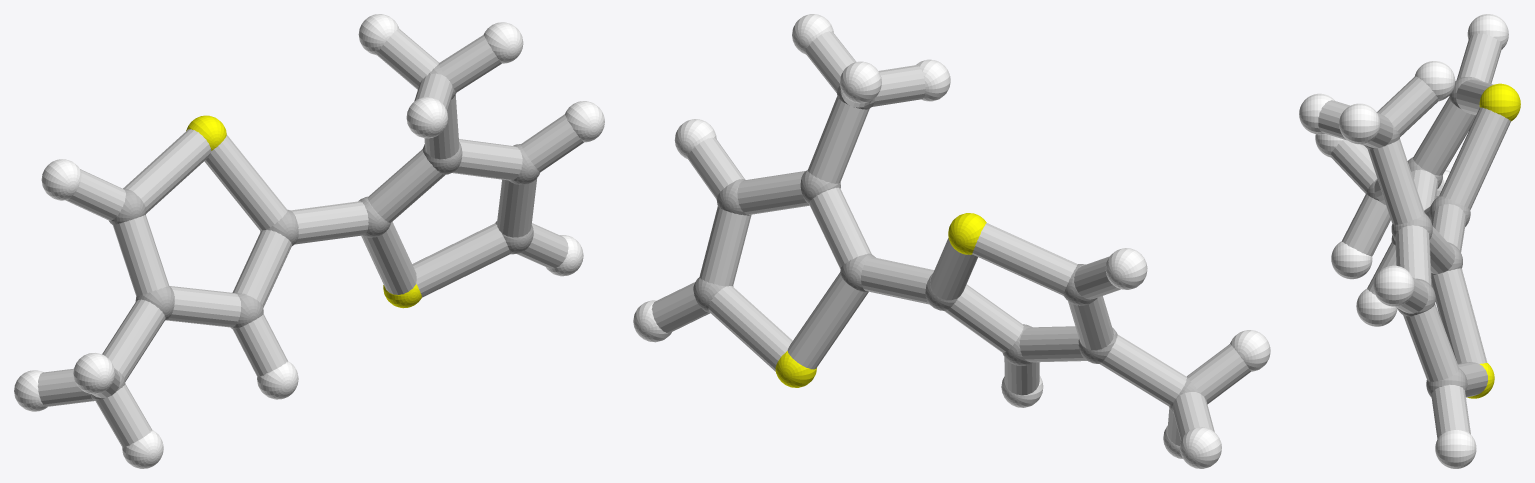
Rendered from Methylthiophene_Phi_5_Theta_50_Methylthiophene.glb.
The picture shows the model from 3 angles, left to right: view 1: azimuth 30°, elevation 25°; view 2: azimuth 150°, elevation 25°; view 3: azimuth 270°, elevation 25°; orthographic projection.
Visible parts, largest first — view 1: grp7965, grp3621, grp1, grp7241; view 2: grp7965, grp3621, grp1, grp7241; view 3: grp7965, grp3621, grp1, grp7241.
Boxes of the visible parts, x1,y1,x2,y2 form: grp7965: (37,29,583,447); grp3621: (14,14,604,468); grp1: (90,64,539,400); grp7241: (186,115,421,308); grp7965: (651,31,1250,445); grp3621: (633,14,1270,468); grp1: (693,85,1199,412); grp7241: (775,213,986,387); grp7965: (1318,33,1510,438); grp3621: (1299,14,1508,468); grp1: (1363,77,1482,397); grp7241: (1467,83,1520,398).
Bounding box in the file's own units: 9.49 × 5.6 × 3.22.
